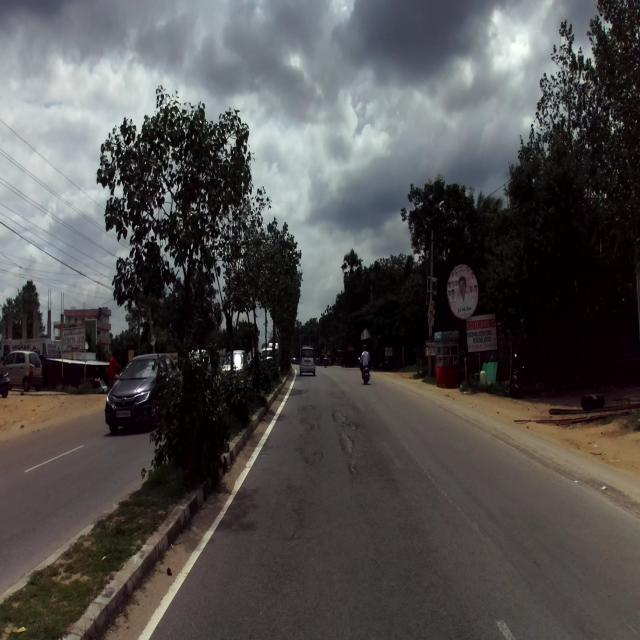pothole: (303, 382, 381, 495)
